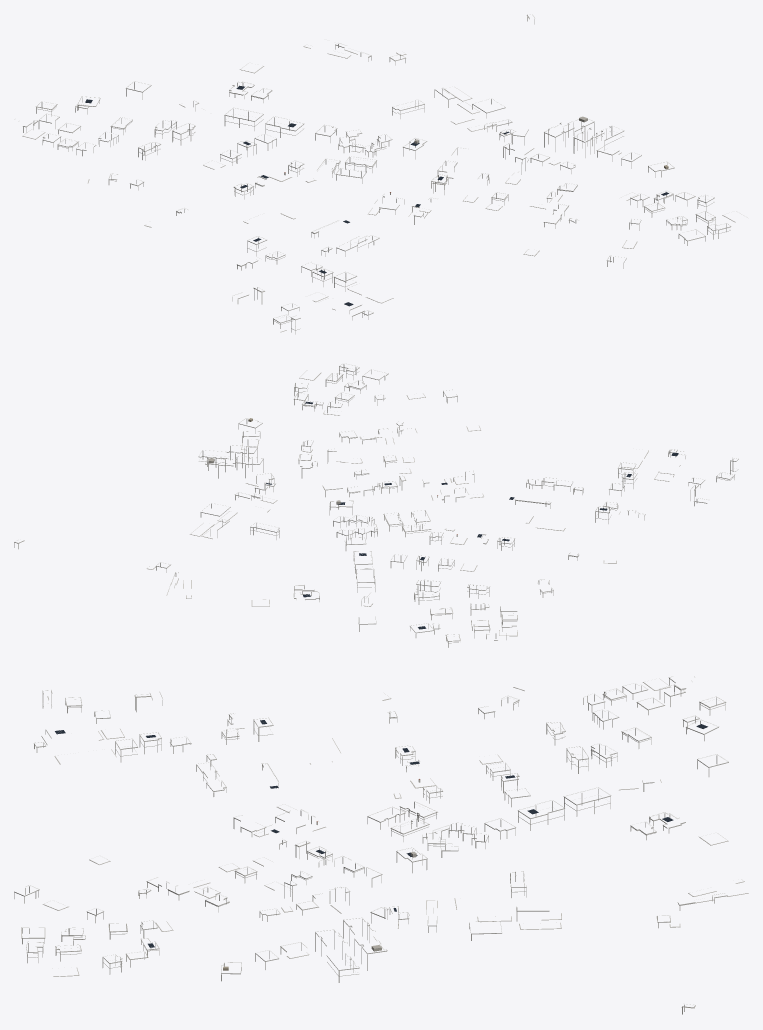
3 views of the same model, one above another, from view 1: azimuth 30°, elevation 25°; view 2: azimuth 150°, elevation 25°; view 3: azimuth 270°, elevation 25° (orthographic). The views are drawn at different scales.
Parts seen in each view (by area): view 1: detail; view 2: detail; view 3: detail.
Part boxes in pixels (x1,y1,x2,y2): detail: (14, 14, 747, 334); detail: (14, 363, 738, 647); detail: (14, 676, 748, 1014).
Bounding box in the file's own units: 506 × 26.68 × 507.
